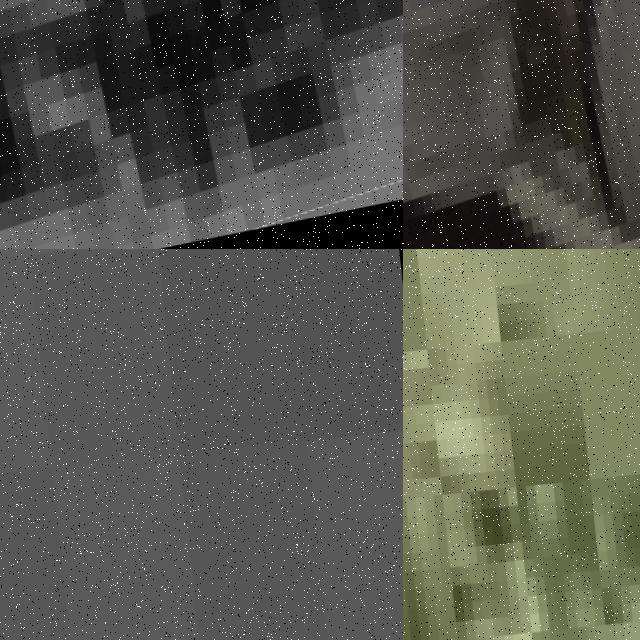0: (0, 0, 403, 249)
drone: (403, 0, 640, 249)
